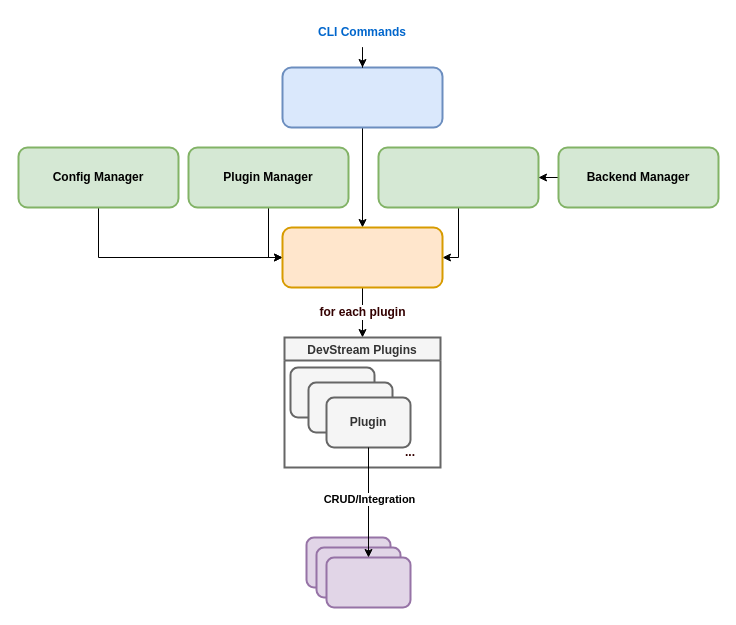
Some shapes in this 736 by 625 pixel diagram are drawn without their labels. The shapes that lost their labels are listed below. From the top down, each one's centre as x and y in pixels, then its label:
At [362,97]: "CLI".
At [458,177]: "State Manager".
At [362,257]: "Plugin Engine".
At [368,582]: "DevOps Tools".
